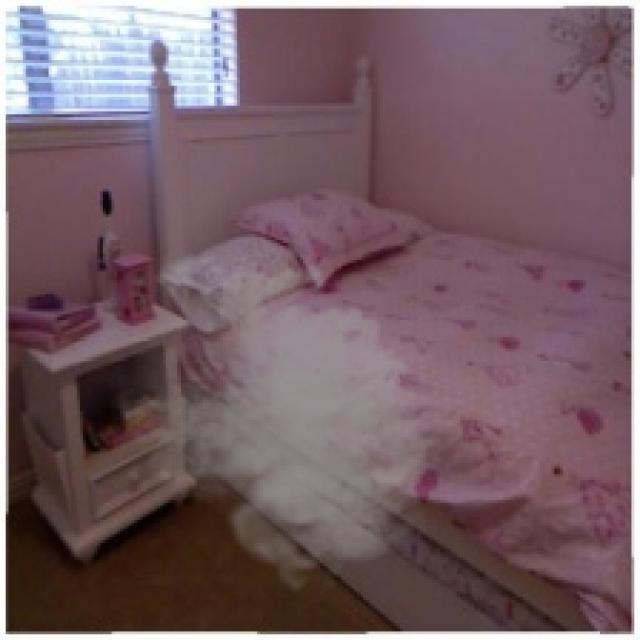smoke: (97, 243, 454, 594)
